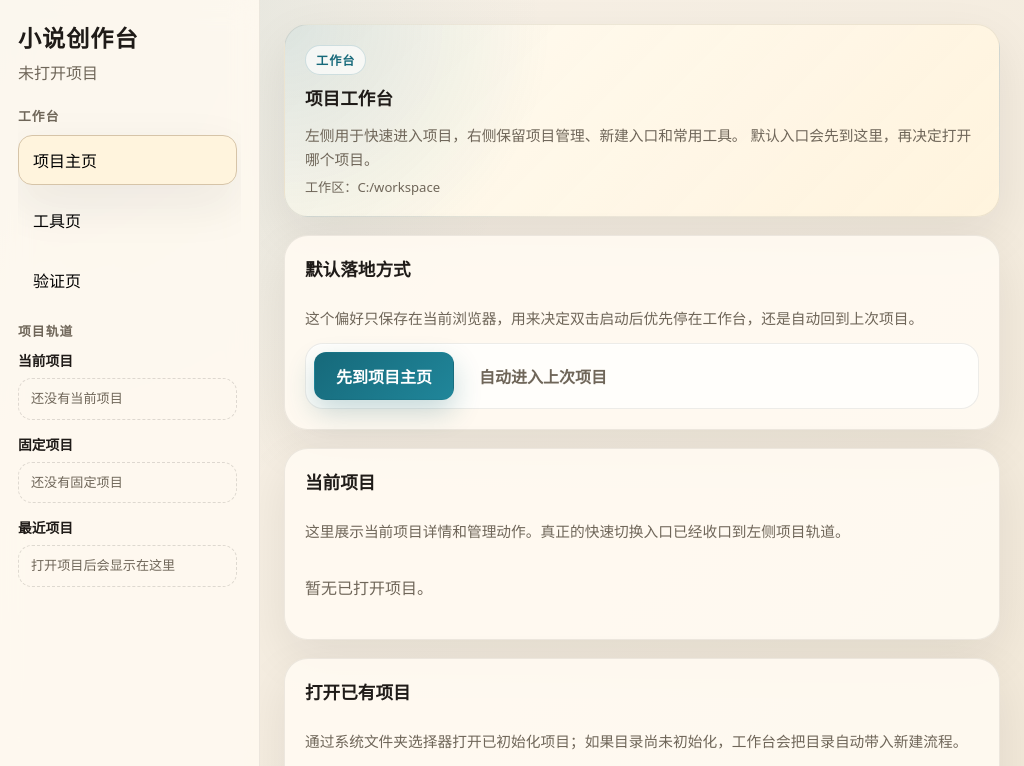
Scenario: workbench tools page uses pure-Chinese labels for user-facing actions
Click the button "工具页" at point(128, 220), box [18,195,237,245]
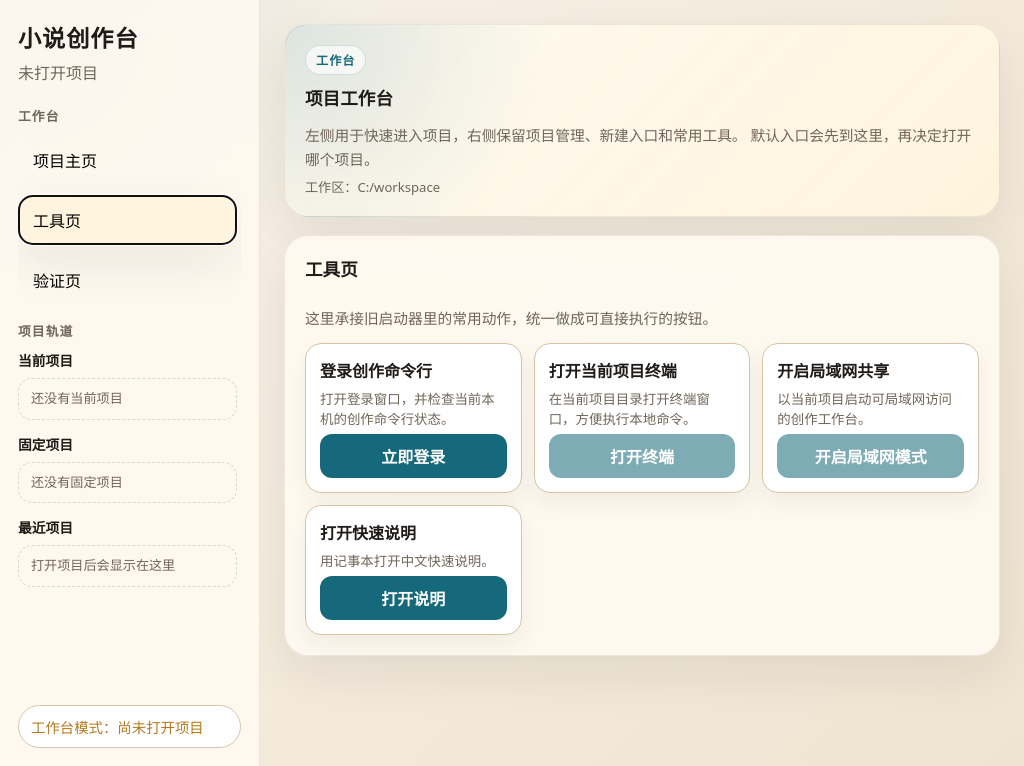
Result: the text "登录创作命令行" is shown at [320,360,432,382]
Result: the text "打开当前项目终端" is shown at [549,360,677,382]
